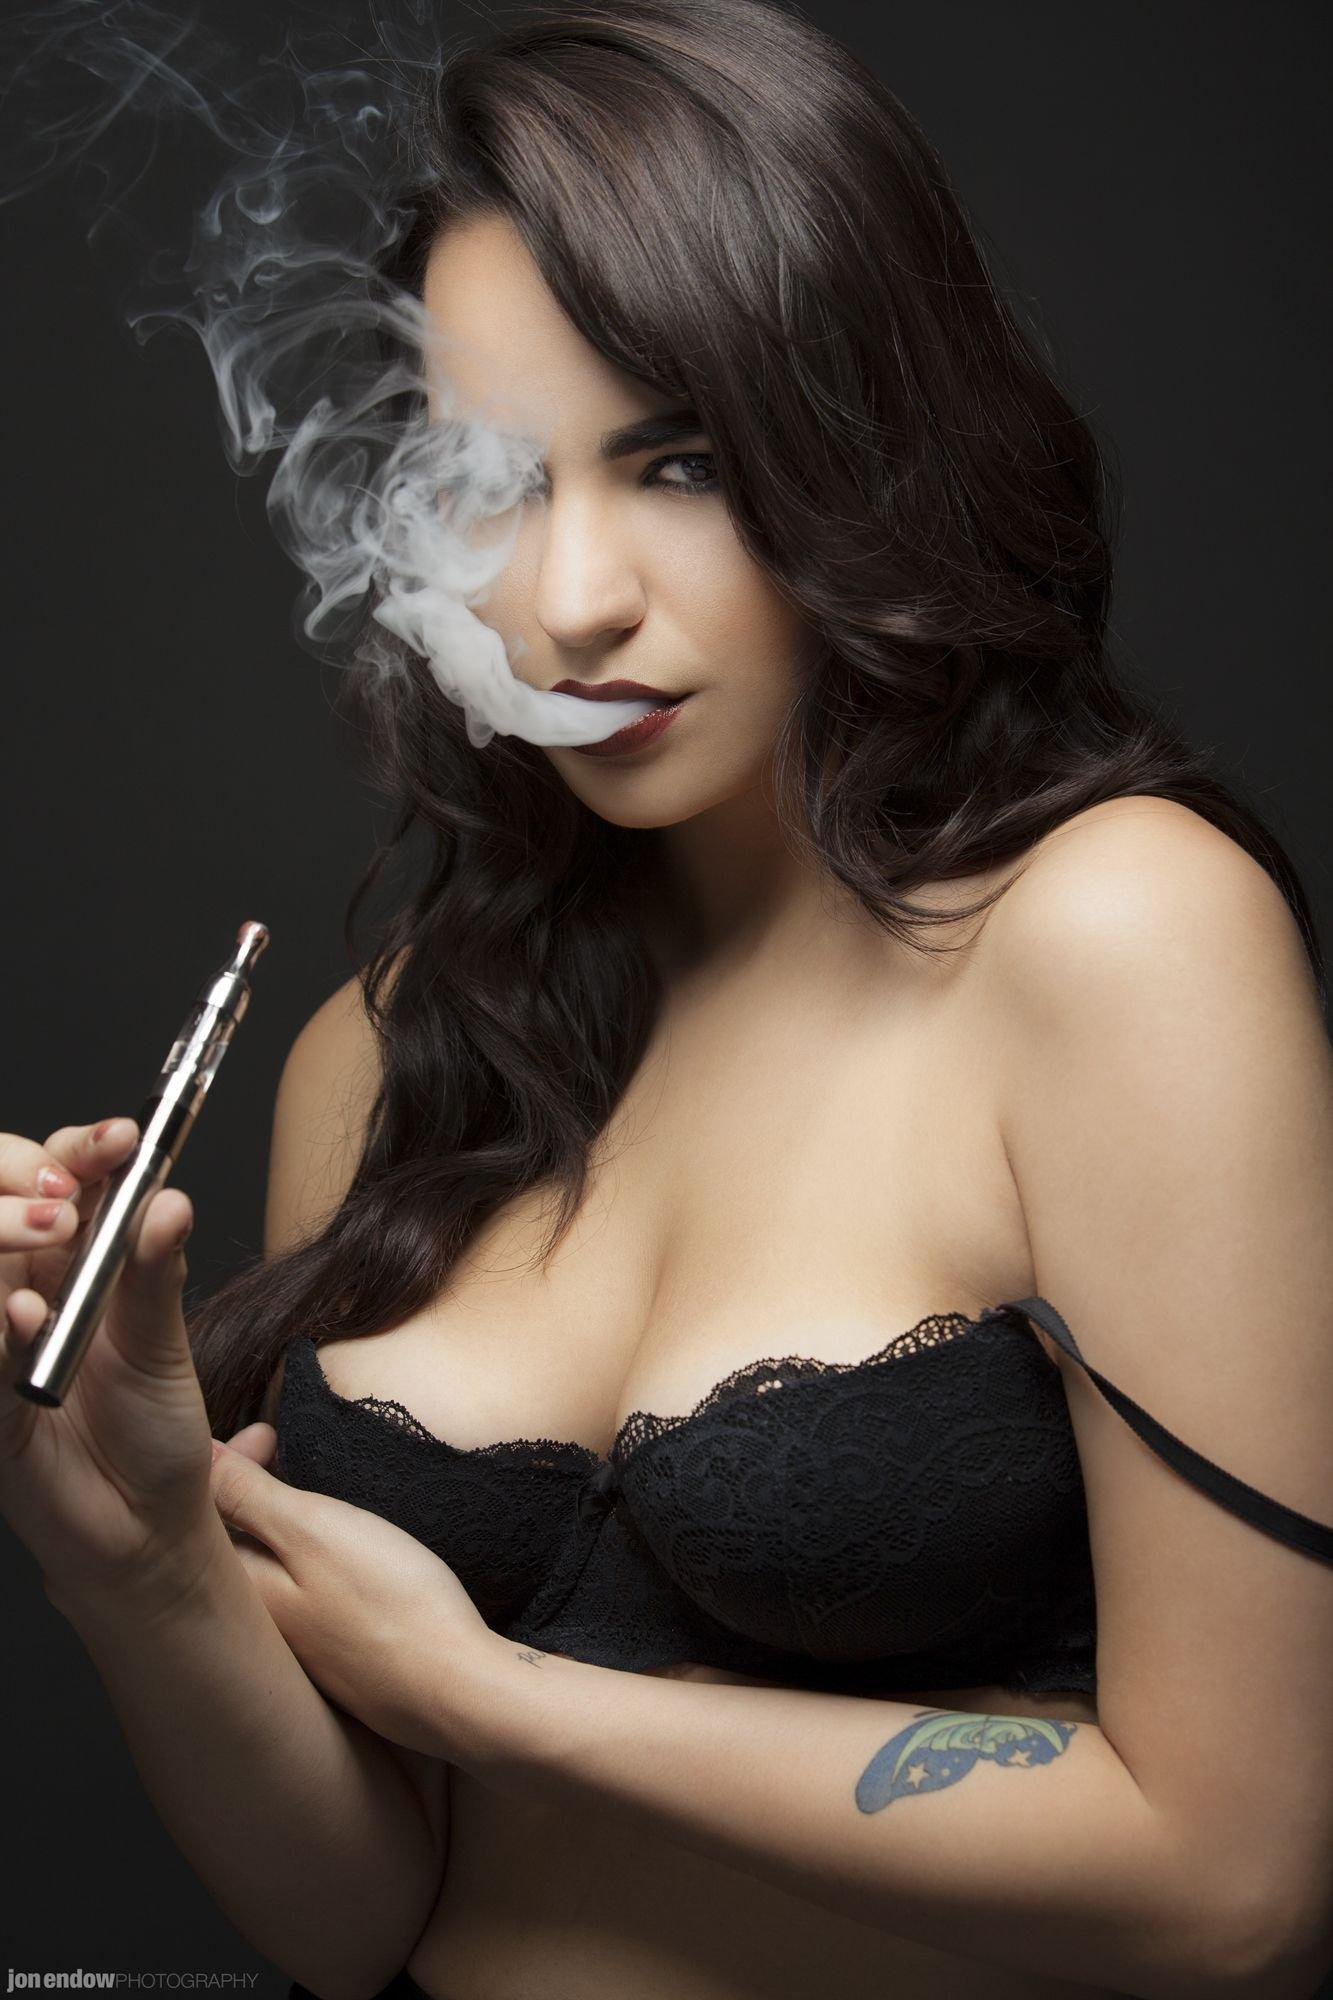Vape: (19, 923, 268, 1408)
